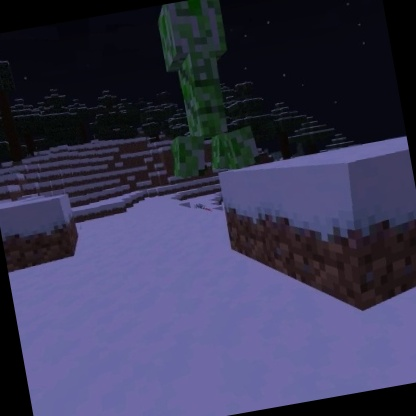creeper: (142, 0, 265, 182)
